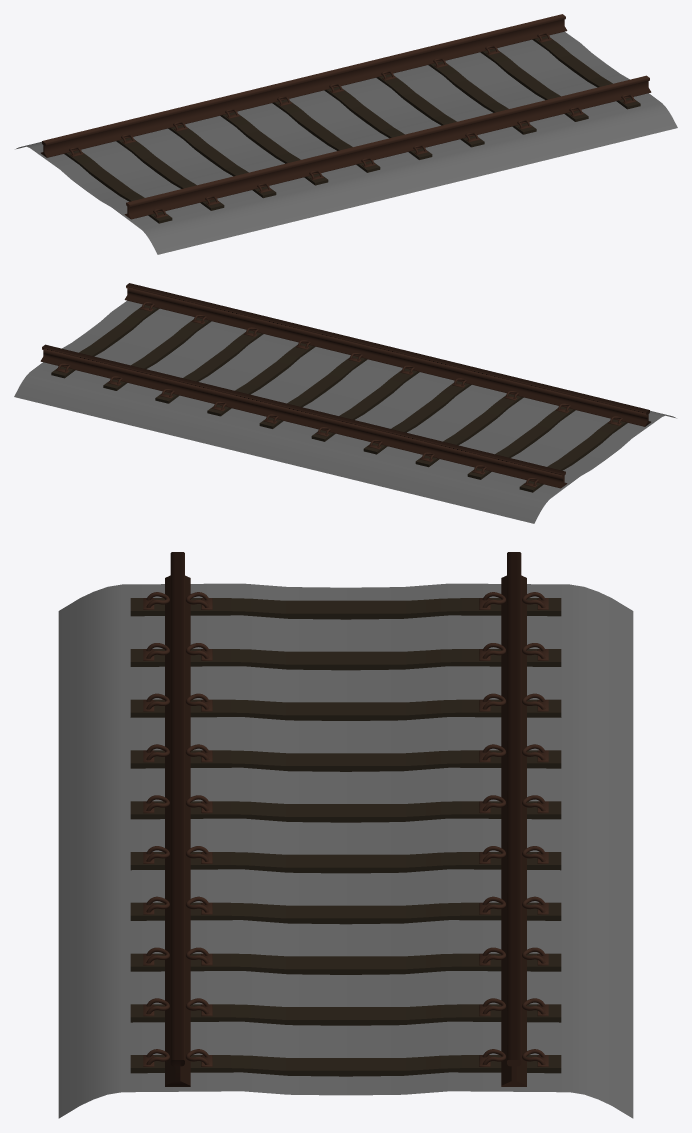
Rendered from Rail.obj.
The picture shows the model from 3 angles, top to bottom: view 1: azimuth 30°, elevation 25°; view 2: azimuth 150°, elevation 25°; view 3: azimuth 270°, elevation 25°; orthographic projection. The views are drawn at different scales.
Parts seen in each view (by area): view 1: Cube_Cube.001; view 2: Cube_Cube.001; view 3: Cube_Cube.001.
Part boxes in pixels (x1,y1,x2,y2): Cube_Cube.001: (15,14,677,254); Cube_Cube.001: (14,283,676,523); Cube_Cube.001: (58,552,633,1118).
Bounding box in the file's own units: 5 × 0.2707 × 2.39.
